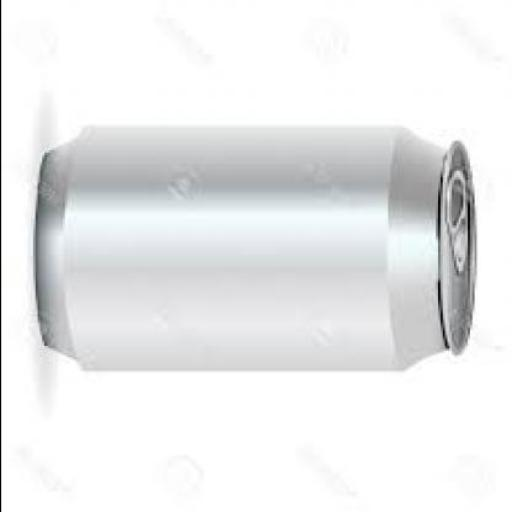metal: (35, 122, 475, 368)
